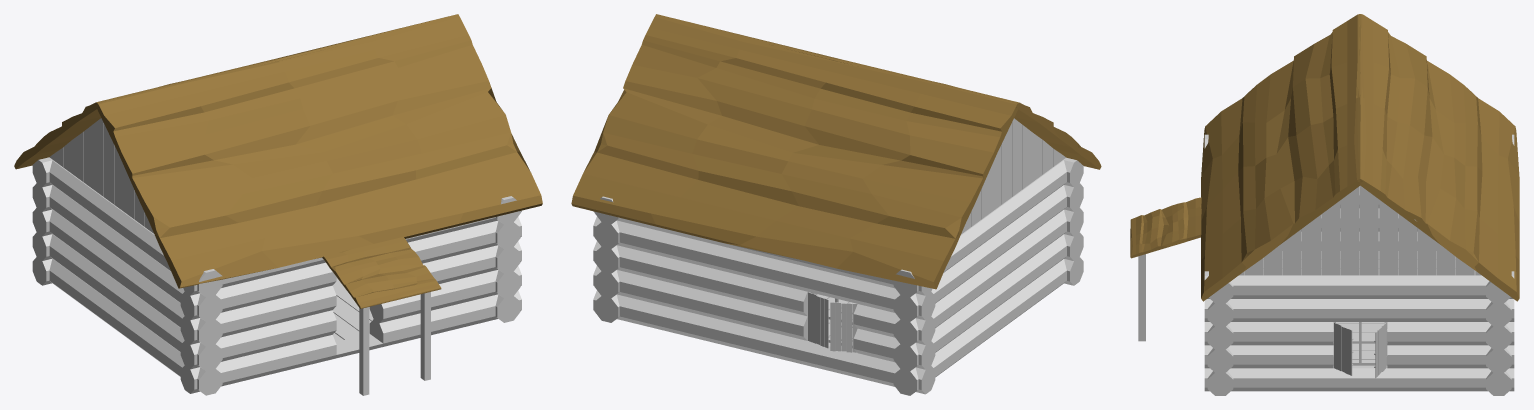
Rendered from House2Thatch.fbx.
3 views of the same model, side by side, from view 1: azimuth 30°, elevation 25°; view 2: azimuth 150°, elevation 25°; view 3: azimuth 270°, elevation 25° (orthographic). The views are drawn at different scales.
Visible parts, largest first — view 1: Thatch_02, wood_town_house_02, Thatch_02_EX; view 2: Thatch_02, wood_town_house_02; view 3: Thatch_02, wood_town_house_02, Thatch_02_EX.
Part boxes in pixels (box(x1,y1,x2,y2)): Thatch_02: box(14, 14, 542, 288); wood_town_house_02: box(32, 118, 521, 395); Thatch_02_EX: box(322, 237, 441, 308); Thatch_02: box(571, 14, 1101, 289); wood_town_house_02: box(593, 118, 1083, 395); Thatch_02: box(1201, 14, 1519, 301); wood_town_house_02: box(1138, 134, 1514, 395); Thatch_02_EX: box(1130, 197, 1201, 258).
Size of the model in its own units: 772 by 495 by 763.
